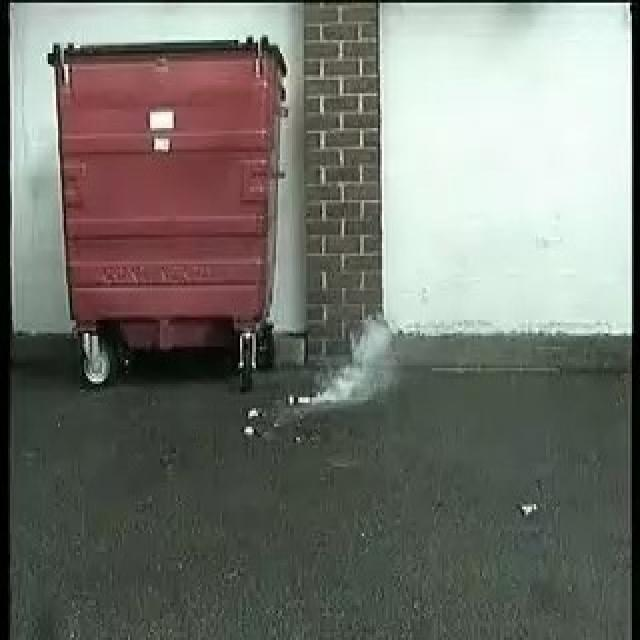smoke: (300, 321, 399, 409)
